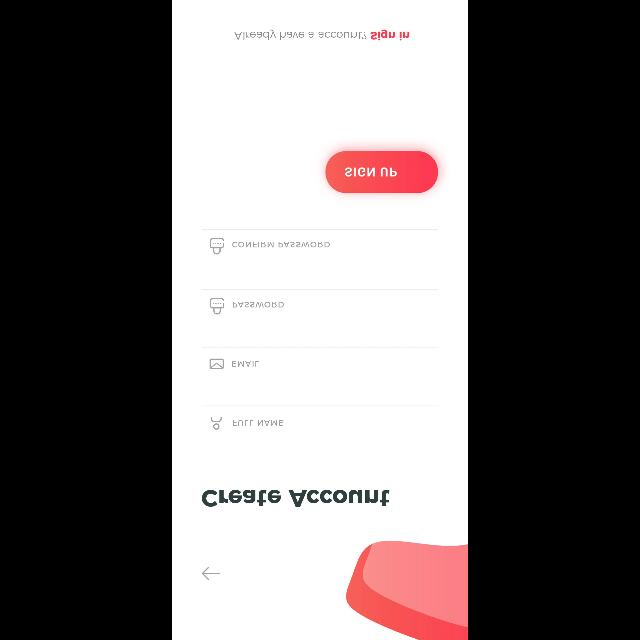icon: (202, 566, 220, 580), (210, 238, 224, 254), (210, 298, 224, 314), (210, 359, 224, 369), (212, 416, 222, 429)
input: (202, 405, 438, 429), (202, 290, 438, 314), (202, 230, 438, 254), (202, 347, 438, 369)
text: (202, 489, 390, 506), (235, 30, 410, 40), (232, 242, 330, 248), (232, 302, 284, 308), (233, 420, 283, 426), (232, 361, 260, 367)
textbutton: (326, 151, 438, 193)
